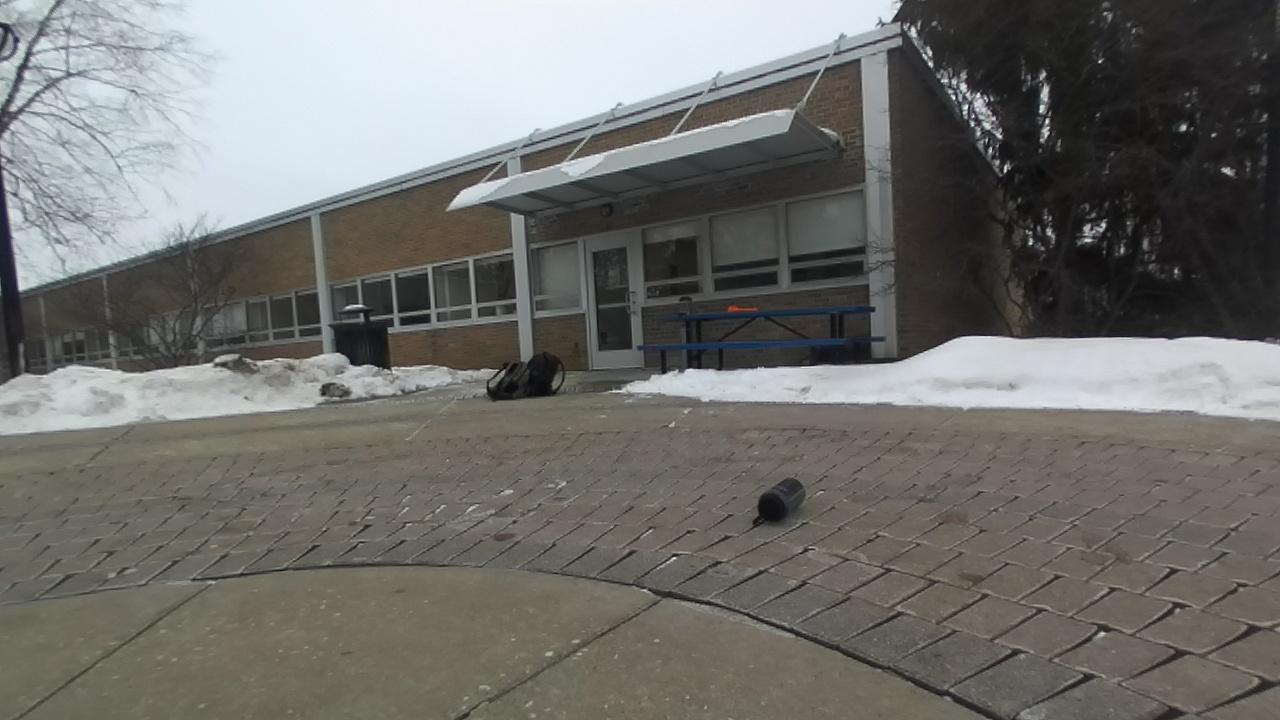bottle: (753, 478, 805, 526)
mallet: (726, 306, 758, 312)
